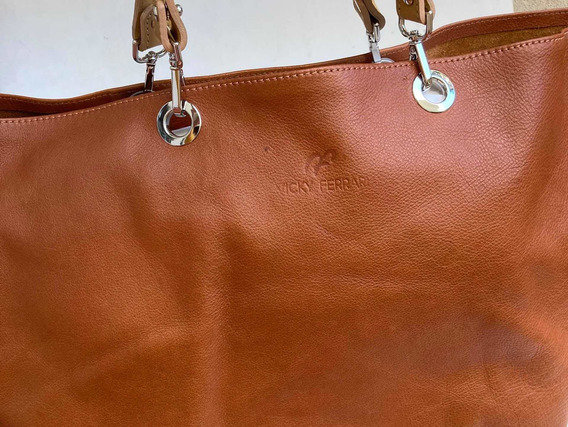cartera: (1, 2, 568, 427)
